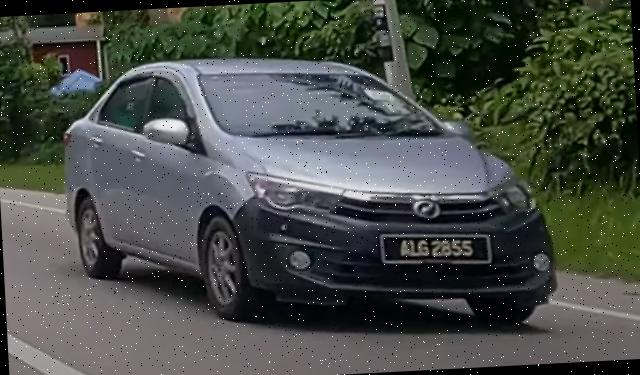License_Plate: (379, 227, 495, 271)
car: (58, 40, 562, 347)
